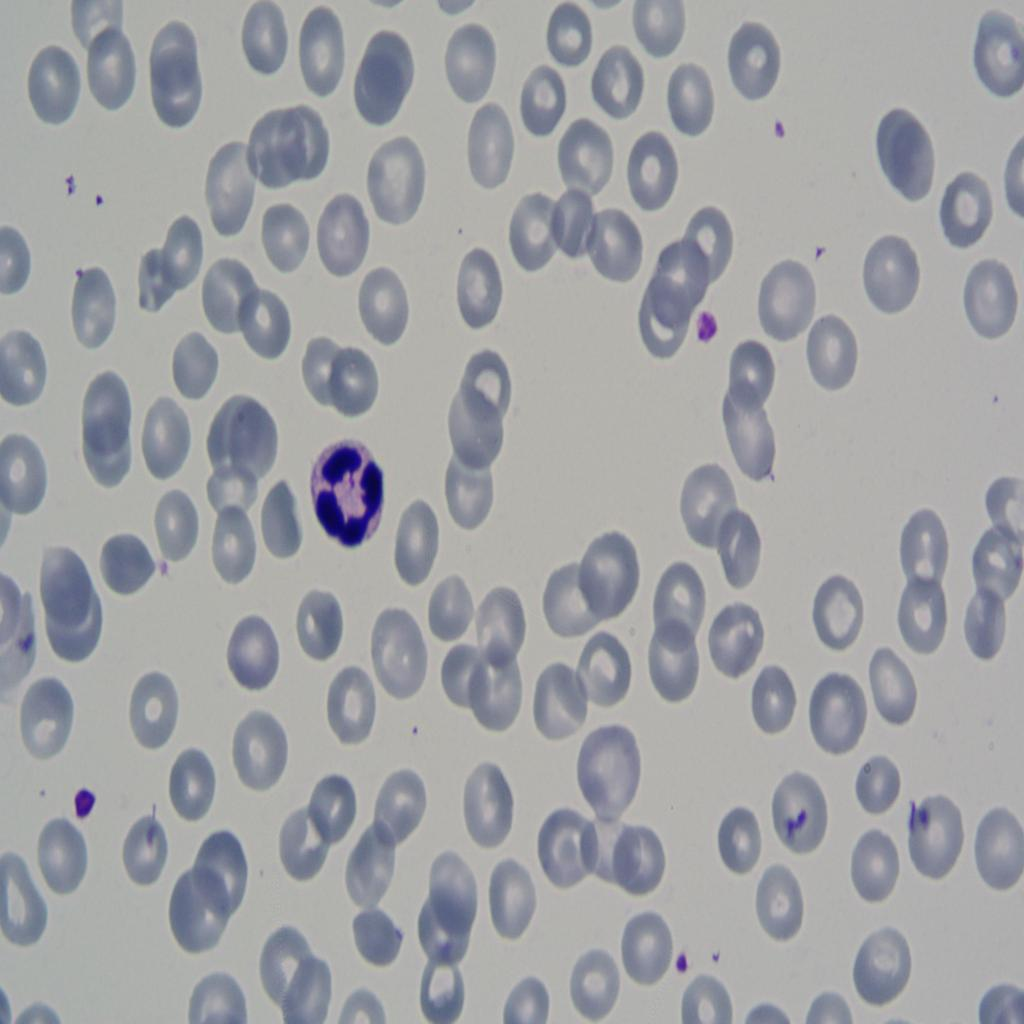Neutrofil: (304, 431, 386, 562)
Platelet: (62, 776, 108, 837), (694, 300, 724, 357), (668, 942, 702, 990), (770, 110, 788, 147)
